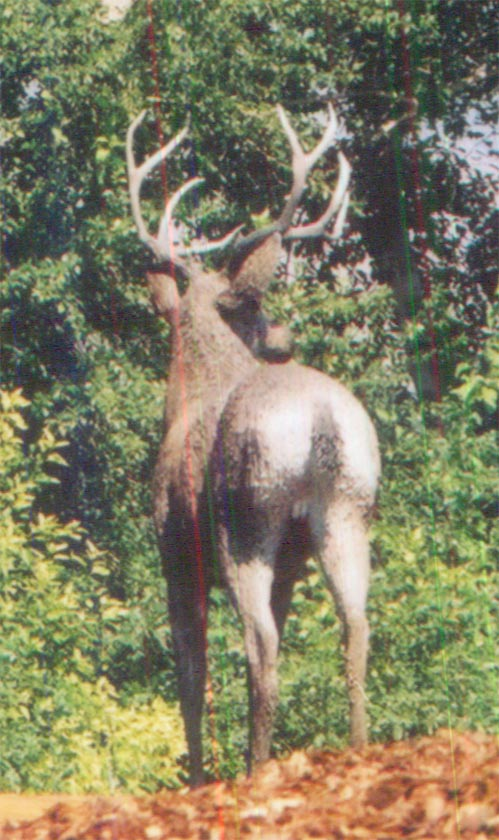Deer: (118, 101, 374, 764)
